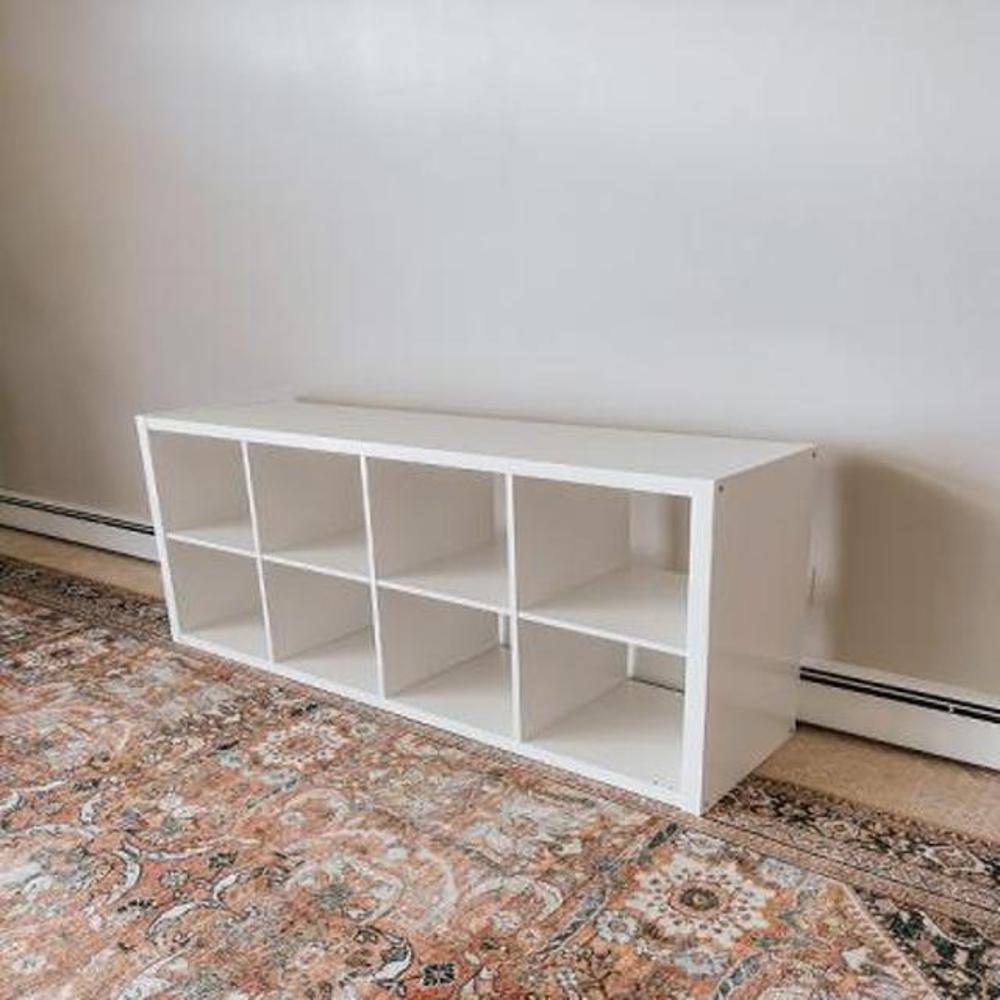lamp: (136, 395, 828, 819)
